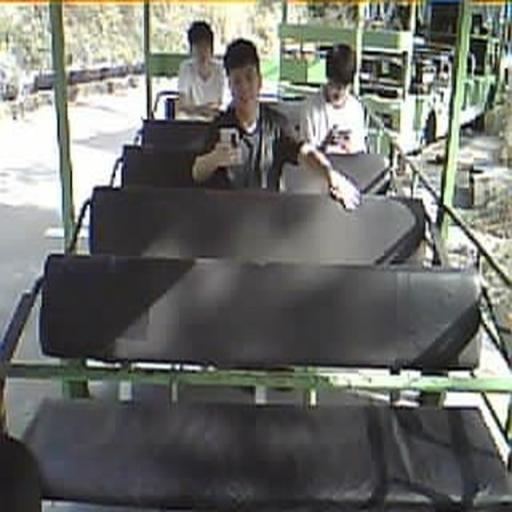persona: (192, 37, 362, 209), (297, 42, 369, 211), (176, 20, 230, 118)
